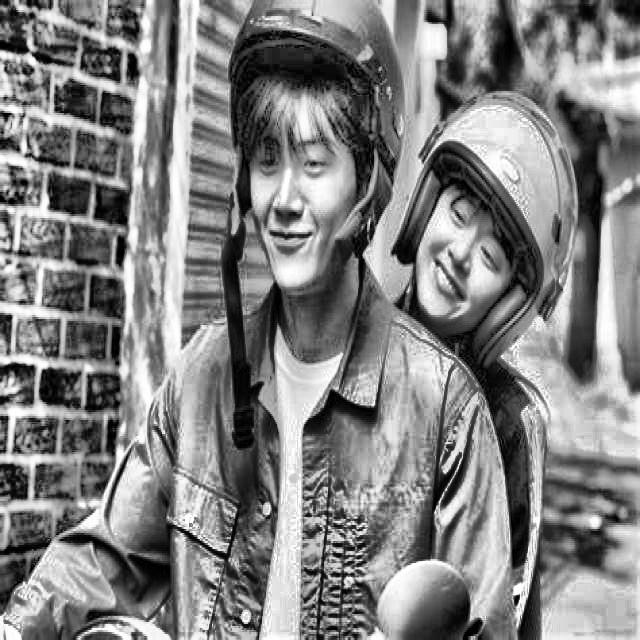Helmet: (390, 64, 586, 388)
